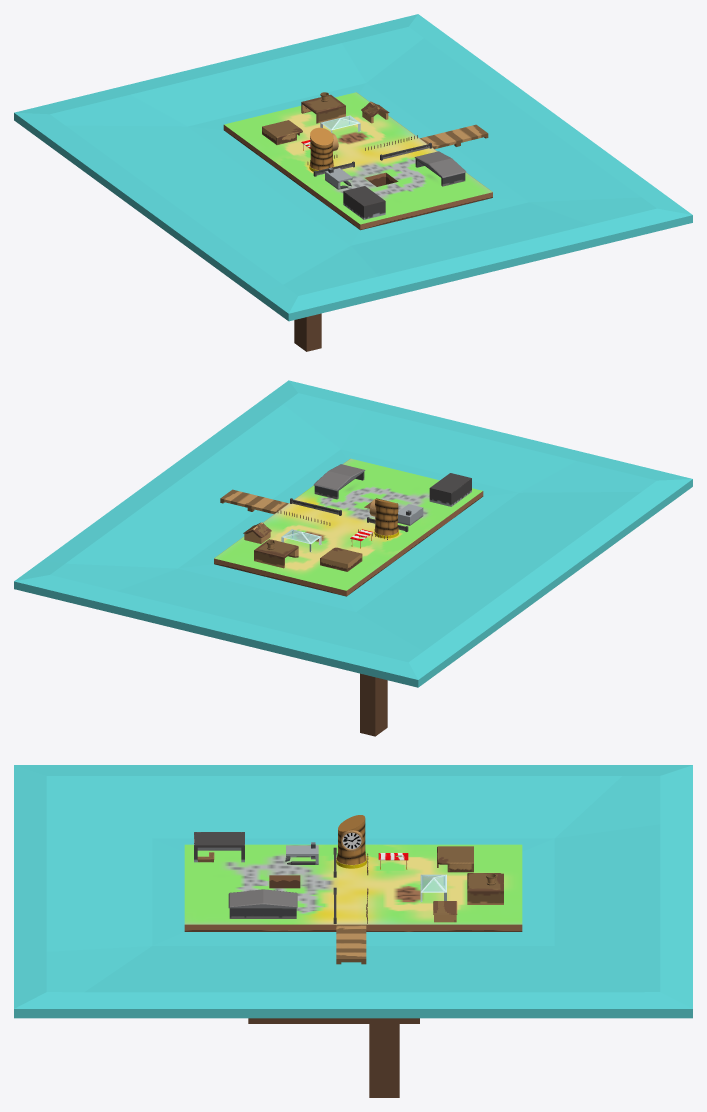
Rendered from A Uniting Trade Map.fbx.
3 renders of one model, top to bottom at view 1: azimuth 30°, elevation 25°; view 2: azimuth 150°, elevation 25°; view 3: azimuth 270°, elevation 25°, orthographic. The views are drawn at different scales.
Parts seen in each view (by area): view 1: Water, Base Ground, Left_Mayor_Area, Barnhouse, Tunnel Down, Clock_Tower, Dock, Right Mayor area, Storage Building; view 2: Water, Base Ground, Tunnel Down, Left_Mayor_Area, Barnhouse, Dock, Clock_Tower, Right Mayor area, Storage Building; view 3: Water, Base Ground, Tunnel Down, Barnhouse, Dock, Left_Mayor_Area, Right Mayor area, Clock_Tower, Storage Building, GreenHouse Cover, Miners_Workplace, Lumberjack house.
Part boxes in pixels (x1=…): Water: x1=14, y1=14, x2=692, y2=321; Base Ground: x1=223, y1=92, x2=492, y2=230; Left_Mayor_Area: x1=343, y1=186, x2=385, y2=219; Barnhouse: x1=414, y1=151, x2=466, y2=186; Tunnel Down: x1=294, y1=179, x2=391, y2=351; Clock_Tower: x1=309, y1=127, x2=334, y2=171; Dock: x1=420, y1=124, x2=488, y2=149; Right Mayor area: x1=301, y1=94, x2=345, y2=123; Storage Building: x1=262, y1=120, x2=302, y2=144; Water: x1=14, y1=380, x2=692, y2=687; Base Ground: x1=214, y1=458, x2=483, y2=596; Tunnel Down: x1=360, y1=673, x2=387, y2=736; Left_Mayor_Area: x1=429, y1=473, x2=471, y2=506; Barnhouse: x1=313, y1=464, x2=365, y2=499; Dock: x1=220, y1=489, x2=288, y2=513; Clock_Tower: x1=374, y1=499, x2=398, y2=538; Right Mayor area: x1=254, y1=539, x2=298, y2=568; Storage Building: x1=320, y1=547, x2=362, y2=571; Water: x1=14, y1=765, x2=692, y2=1018; Base Ground: x1=184, y1=844, x2=522, y2=931; Tunnel Down: x1=248, y1=883, x2=419, y2=1097; Barnhouse: x1=228, y1=889, x2=297, y2=918; Dock: x1=336, y1=924, x2=366, y2=964; Left_Mayor_Area: x1=194, y1=832, x2=244, y2=862; Right Mayor area: x1=467, y1=873, x2=503, y2=904; Clock_Tower: x1=336, y1=815, x2=366, y2=868; Storage Building: x1=437, y1=846, x2=473, y2=872; GreenHouse Cover: x1=420, y1=874, x2=446, y2=902; Miners_Workplace: x1=285, y1=845, x2=318, y2=864; Lumberjack house: x1=433, y1=901, x2=457, y2=922.
Size of the model in its own units: 20619 by 9241 by 17520.
Materials: 21 (18 with a texture image).
